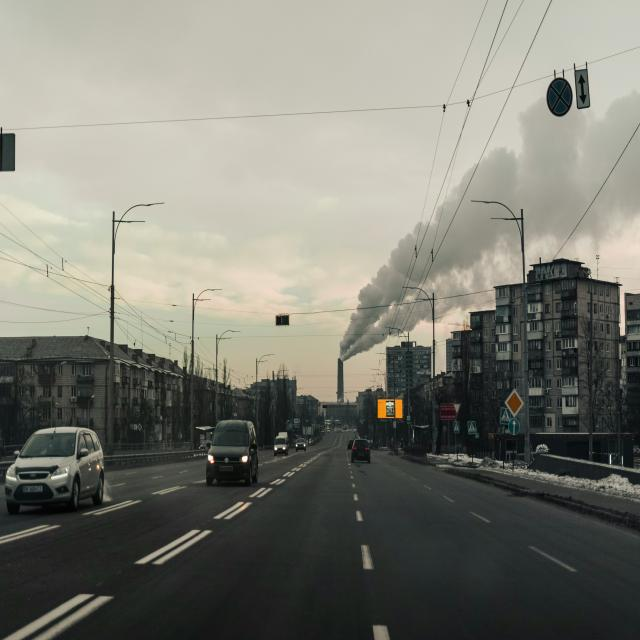Car: (5, 426, 104, 514), (206, 419, 258, 486), (351, 439, 370, 463), (274, 432, 290, 456), (295, 438, 306, 452)
